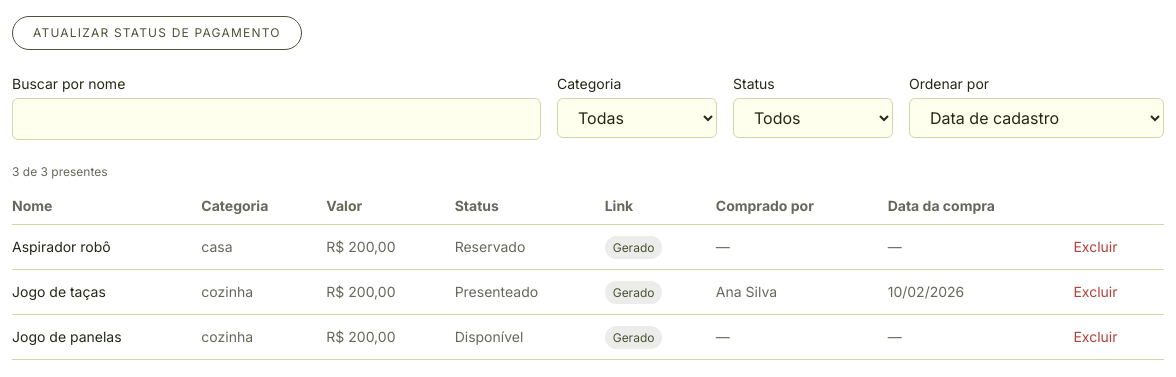
Scenario: GiftsTable › filters by name text
This screenshot has width=1176, height=377.
Type "aspirador" into the field labelled "Buscar por nome". click: (276, 119)
box: left=12, top=98, right=541, bottom=140
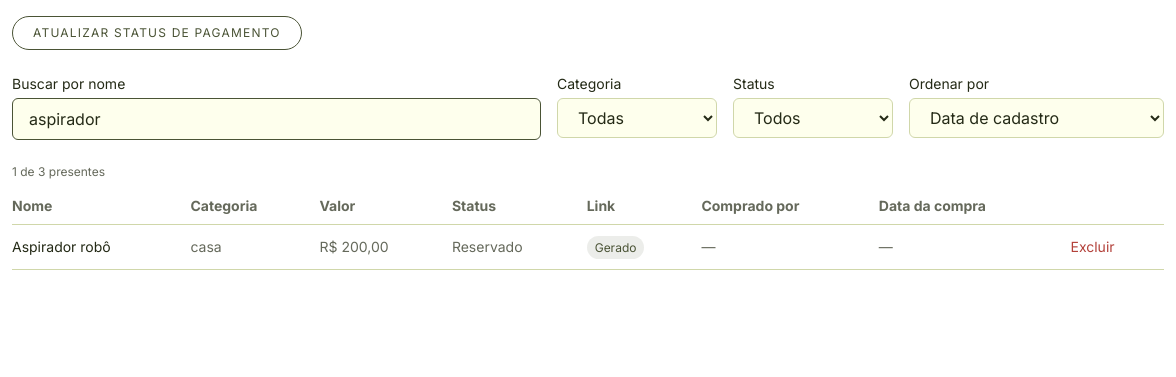
Expected: the link "Aspirador robô" is shown, left=12, top=238, right=111, bottom=255
Expected: the link "Jogo de panelas" is gone
